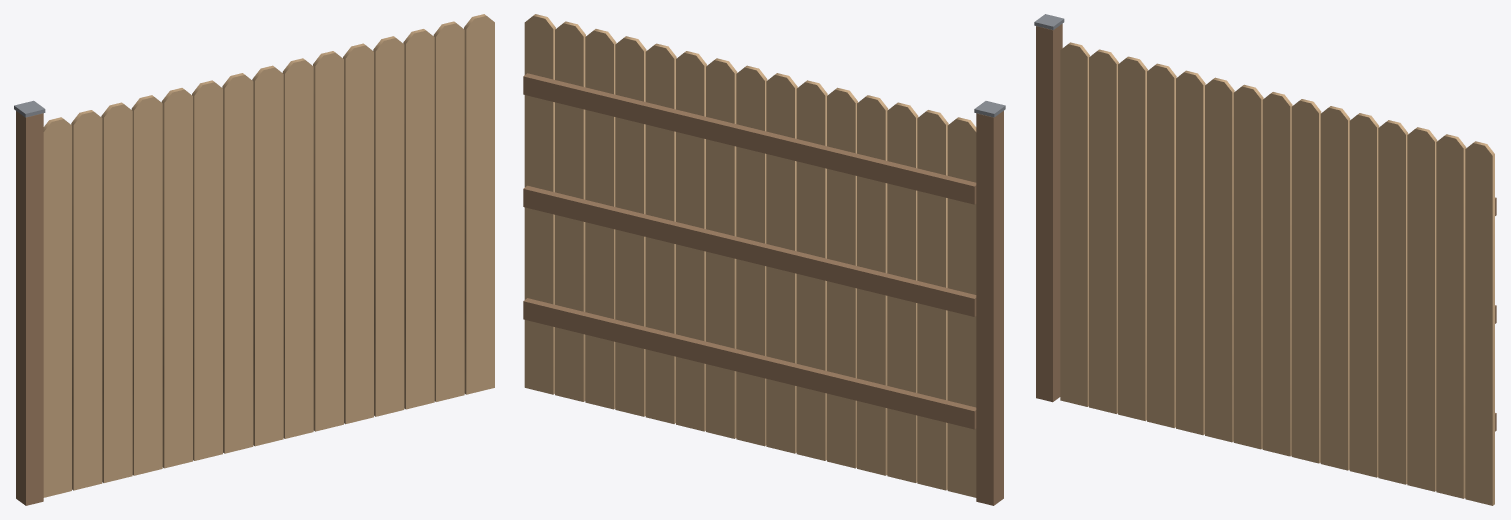
The model's file is WoodFence.fbx.
3 views of the same model, side by side, from view 1: azimuth 30°, elevation 25°; view 2: azimuth 150°, elevation 25°; view 3: azimuth 330°, elevation 25° (orthographic). The views are drawn at different scales.
Visible parts, largest first — view 1: LOD0; view 2: LOD0; view 3: LOD0.
Part boxes in pixels (box(x1,y1,x2,y2)): LOD0: box(14, 14, 494, 505); LOD0: box(523, 14, 1005, 505); LOD0: box(1034, 14, 1496, 505).
Size of what is drawn, in the model's own units: 243 by 192 by 10.4.
